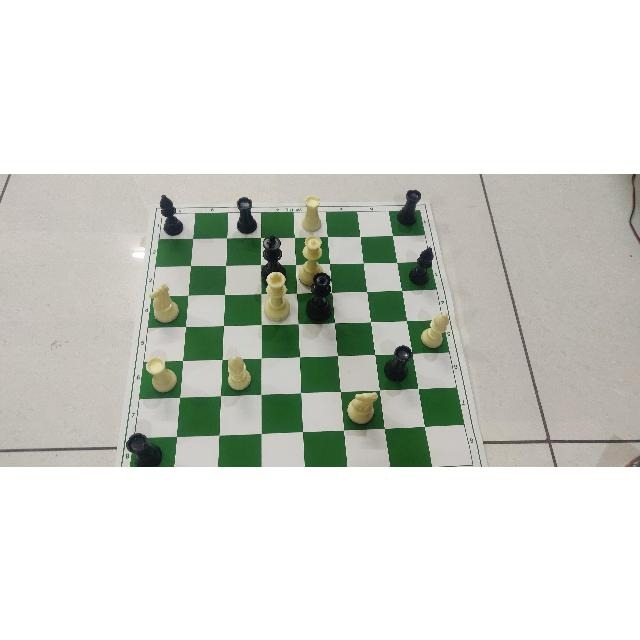black-bishop: (158, 191, 183, 235), (410, 244, 436, 285)
black-king: (262, 234, 289, 284)
black-queen: (307, 271, 334, 323)
black-rook: (124, 432, 164, 466), (384, 345, 416, 381), (397, 187, 423, 227), (233, 196, 258, 234)
white-bishop: (223, 355, 254, 395), (420, 310, 451, 348)
white-king: (263, 272, 291, 324)
white-knight: (346, 391, 380, 425), (149, 286, 180, 322)
white-queen: (298, 235, 327, 286)
white-rook: (144, 357, 181, 393), (304, 195, 326, 231)
